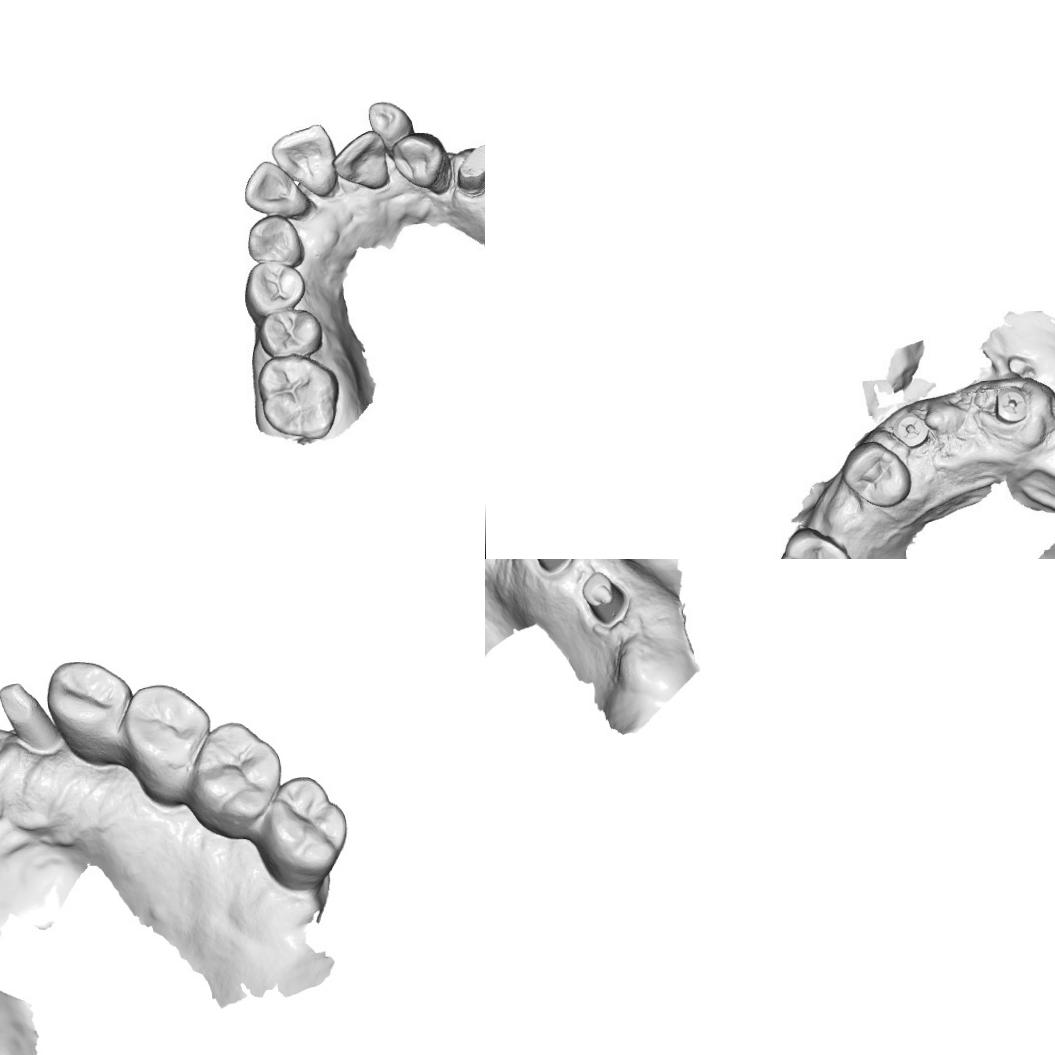abutment: (0, 681, 60, 759), (578, 569, 627, 627), (528, 559, 573, 573)
canine: (390, 131, 448, 190), (245, 214, 305, 268)
crown: (452, 141, 485, 194)
implant_plus: (988, 390, 1030, 426), (895, 412, 933, 451)
incisor: (268, 122, 338, 198), (242, 158, 311, 216), (336, 134, 392, 187), (366, 98, 414, 148)
molar: (194, 720, 283, 825), (265, 774, 352, 877), (258, 355, 337, 437), (771, 525, 852, 559)
premolar: (122, 683, 212, 782), (43, 658, 132, 748), (842, 436, 914, 511), (242, 256, 309, 314), (258, 307, 322, 358)
